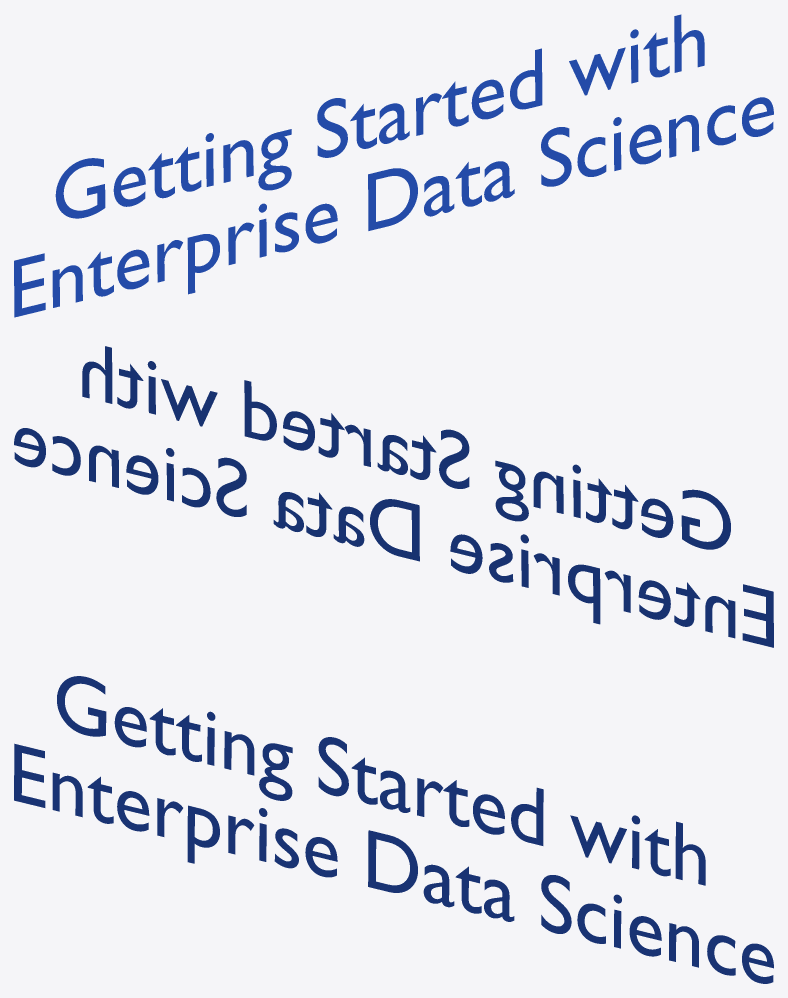
File: GettingStartedWEnterpriseDataScience.glb
3 renders of one model, top to bottom at view 1: azimuth 30°, elevation 25°; view 2: azimuth 150°, elevation 25°; view 3: azimuth 330°, elevation 25°, orthographic.
Parts seen in each view (by area): view 1: Text; view 2: Text; view 3: Text.
Part boxes in pixels (x1,y1,x2,y2): Text: (14, 14, 773, 317); Text: (14, 346, 773, 647); Text: (14, 676, 773, 983).
Size of the model in its own units: 9.58 by 1.92 by 0.0231.
